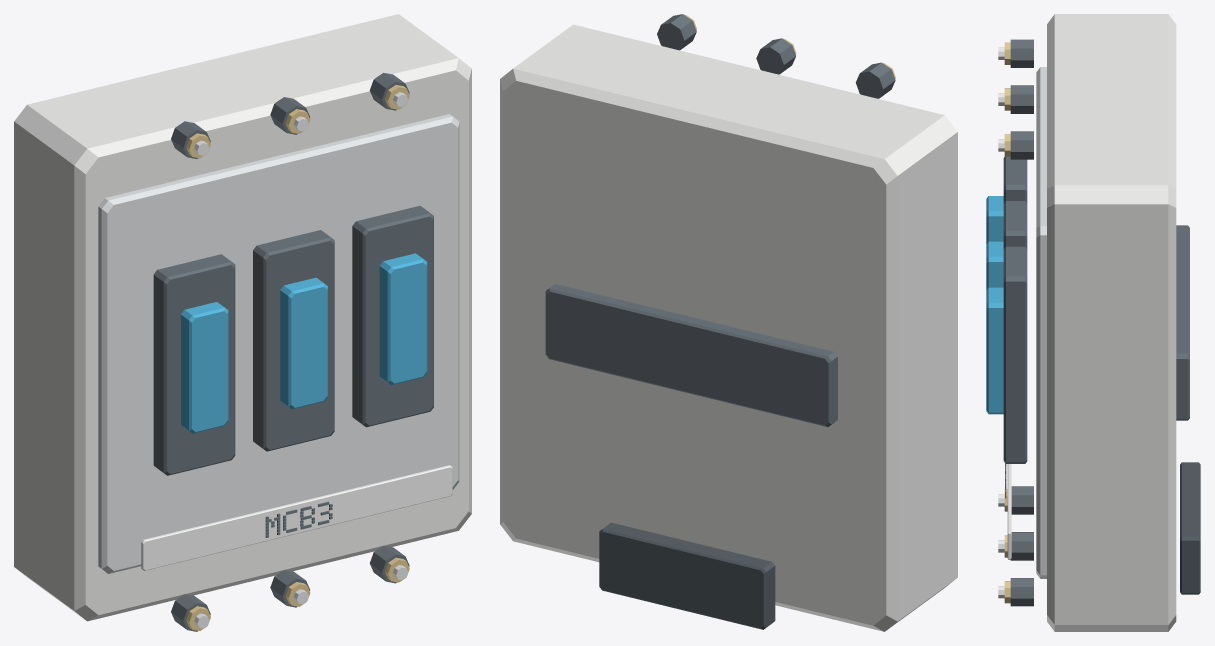
Rendered from mcb3P.glb.
The picture shows the model from 3 angles, left to right: view 1: azimuth 30°, elevation 25°; view 2: azimuth 150°, elevation 25°; view 3: azimuth 270°, elevation 25°; orthographic projection. The views are drawn at different scales.
Parts seen in each view (by area): view 1: mcb3P-board; view 2: mcb3P-board; view 3: mcb3P-board.
Part boxes in pixels (bbox=[...]): mcb3P-board: bbox=[14, 14, 471, 631]; mcb3P-board: bbox=[500, 14, 957, 631]; mcb3P-board: bbox=[986, 14, 1200, 631].
Size of the model in its own units: 2.75 by 3.32 by 1.36.
